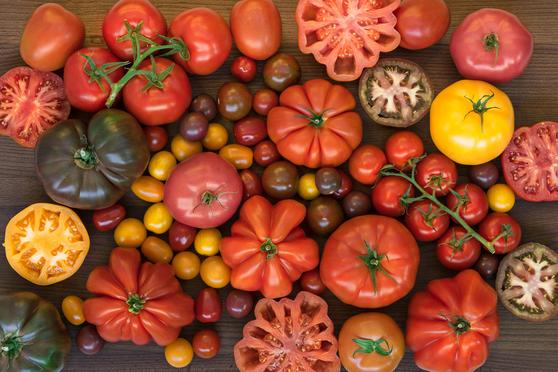tomato: (80, 247, 194, 349), (32, 116, 148, 207), (222, 197, 322, 295), (411, 268, 501, 371), (323, 211, 415, 304), (275, 79, 361, 168), (168, 150, 242, 230), (454, 7, 532, 78), (19, 1, 86, 78), (335, 311, 402, 372), (125, 55, 186, 120), (175, 11, 232, 72), (64, 47, 123, 105), (394, 1, 448, 53), (235, 1, 280, 62), (113, 4, 162, 56), (486, 213, 519, 249), (422, 155, 455, 191), (446, 232, 472, 263), (423, 207, 443, 234)
